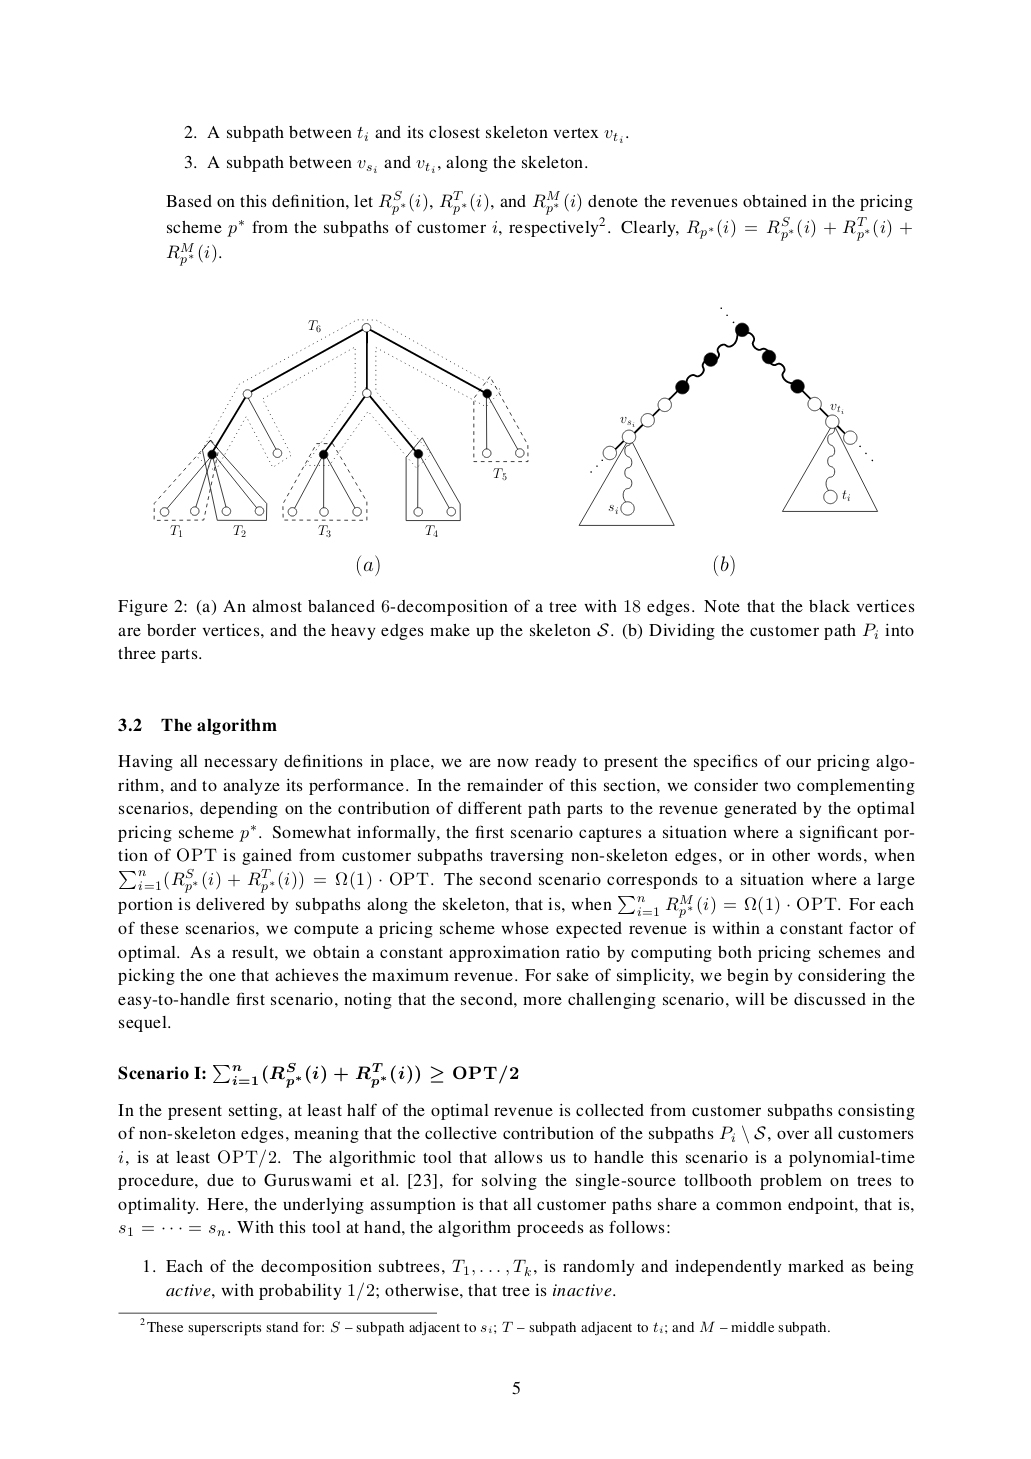figure: (153, 319, 528, 537), (578, 320, 877, 526)
formula: (118, 1061, 518, 1088)
